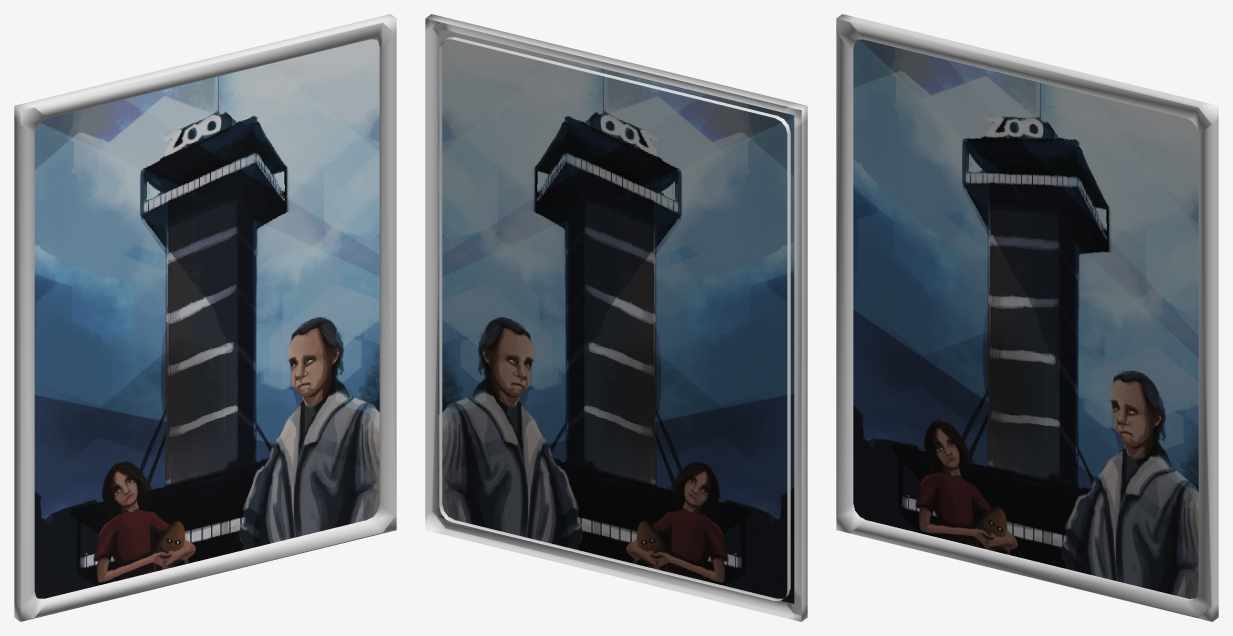
The model's file is Paintings_DadSiljaZoo_1.fbx.
3 renders of one model, left to right at view 1: azimuth 30°, elevation 25°; view 2: azimuth 150°, elevation 25°; view 3: azimuth 330°, elevation 25°, orthographic.
Visible parts, largest first — view 1: Painting_SiljaDad_Zoo, PaintingFrame_2; view 2: Painting_SiljaDad_Zoo, PaintingFrame_2; view 3: Painting_SiljaDad_Zoo, PaintingFrame_2.
Part boxes in pixels (left/top/right/bottom): Painting_SiljaDad_Zoo: left=34, top=39, right=379, bottom=598; PaintingFrame_2: left=14, top=14, right=396, bottom=621; Painting_SiljaDad_Zoo: left=438, top=28, right=794, bottom=603; PaintingFrame_2: left=425, top=14, right=807, bottom=621; Painting_SiljaDad_Zoo: left=853, top=39, right=1198, bottom=598; PaintingFrame_2: left=836, top=14, right=1218, bottom=621.
Size of the model in its own units: 1.21 by 1.57 by 0.0343.
